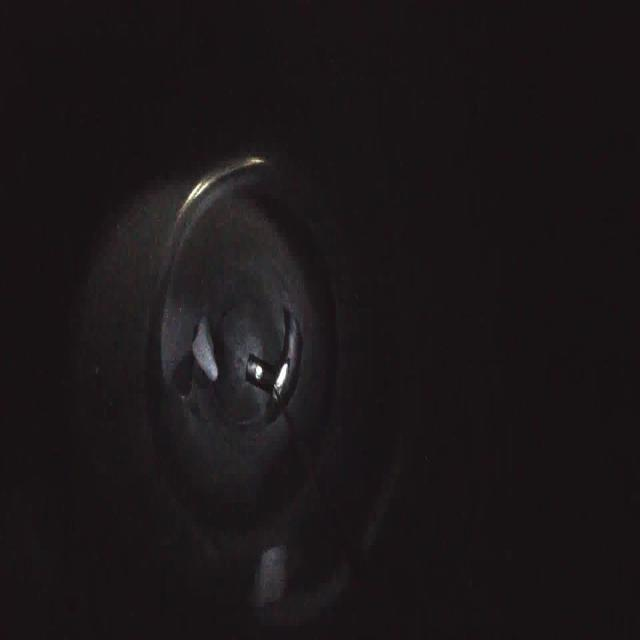impurity: (188, 310, 222, 385)
